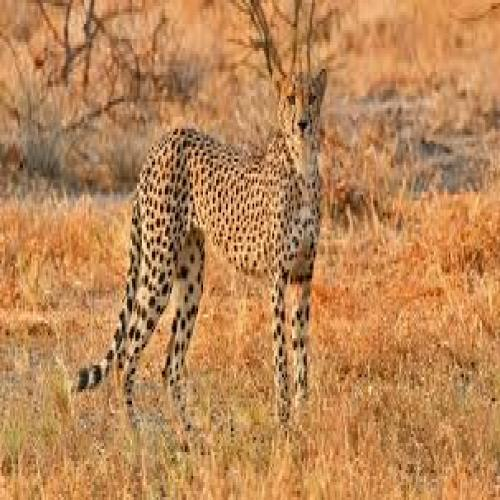cheetah-endangered: (90, 60, 342, 420)
